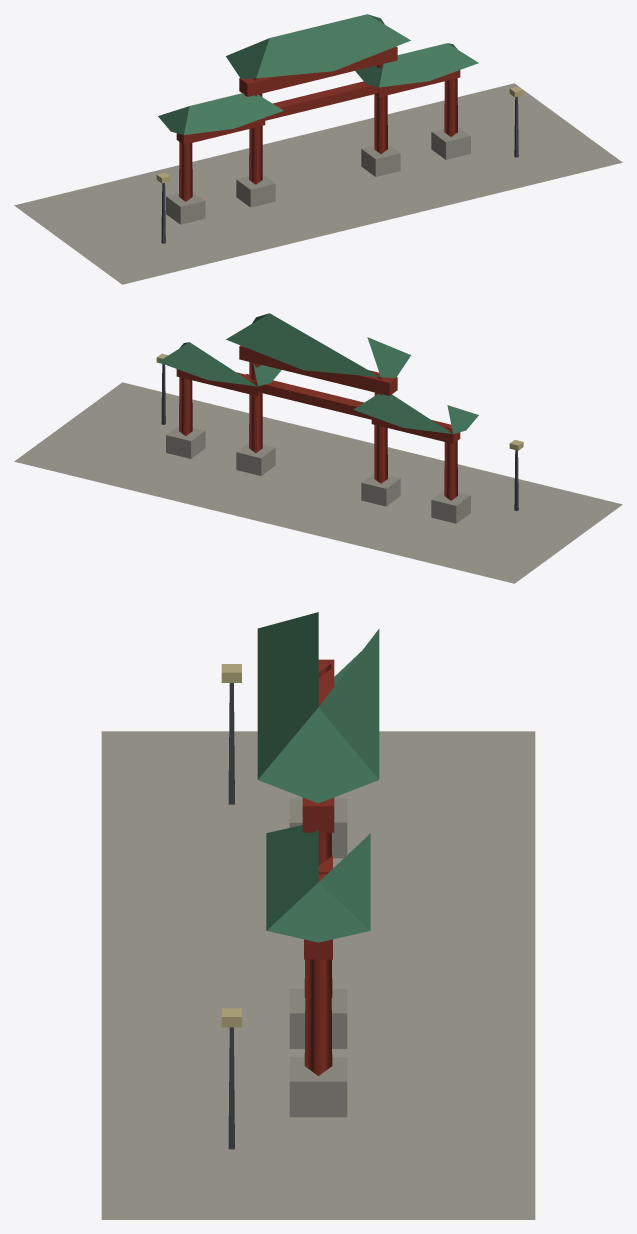
The model's file is mobile-low.glb.
3 views of the same model, one above another, from view 1: azimuth 30°, elevation 25°; view 2: azimuth 150°, elevation 25°; view 3: azimuth 270°, elevation 25° (orthographic). The views are drawn at different scales.
Parts seen in each view (by area): view 1: lm.dragon-gate; view 2: lm.dragon-gate; view 3: lm.dragon-gate.
Part boxes in pixels (x1,y1,x2,y2): lm.dragon-gate: [14, 14, 622, 284]; lm.dragon-gate: [14, 313, 622, 583]; lm.dragon-gate: [101, 612, 535, 1219].
Bounding box in the file's own units: 40 × 14.1 × 15.
